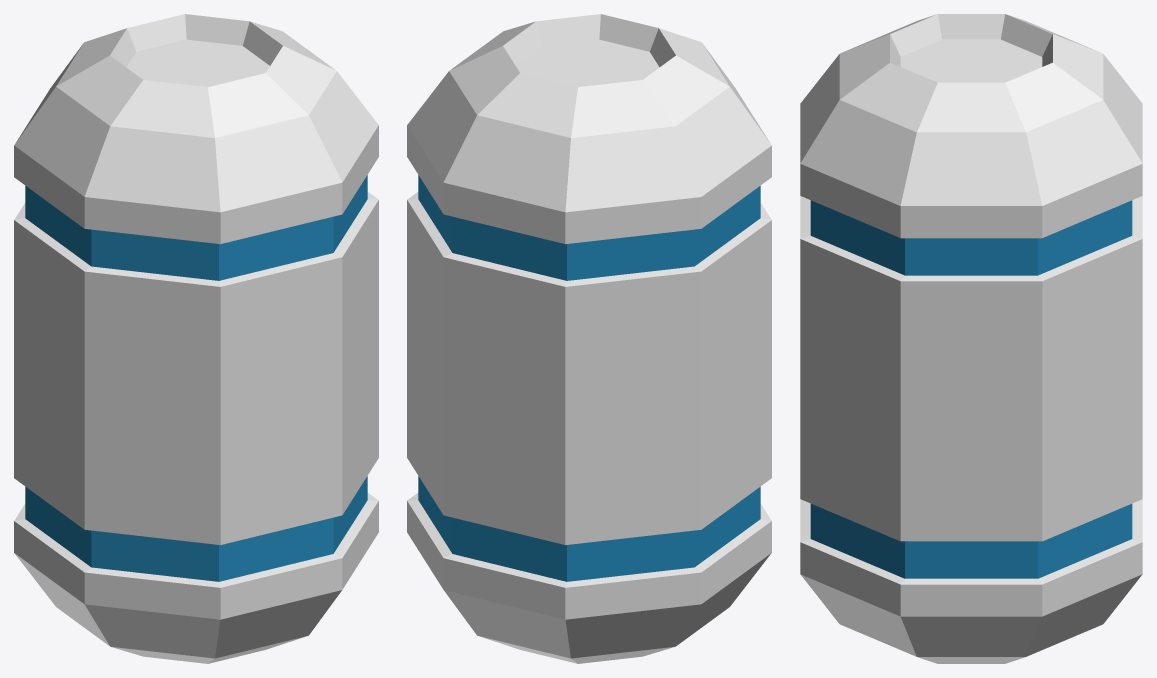
File: Props_Vessel_Short.001.fbx
3 renders of one model, left to right at view 1: azimuth 30°, elevation 25°; view 2: azimuth 150°, elevation 25°; view 3: azimuth 270°, elevation 25°, orthographic.
Parts seen in each view (by area): view 1: Props_Vessel_Short.001; view 2: Props_Vessel_Short.001; view 3: Props_Vessel_Short.001.
Boxes of the visible parts, x1=… form: Props_Vessel_Short.001: x1=14, y1=14, x2=378, y2=663; Props_Vessel_Short.001: x1=407, y1=14, x2=771, y2=663; Props_Vessel_Short.001: x1=800, y1=14, x2=1142, y2=663.
Size of the model in its own units: 0.2873 by 0.538 by 0.2873.
